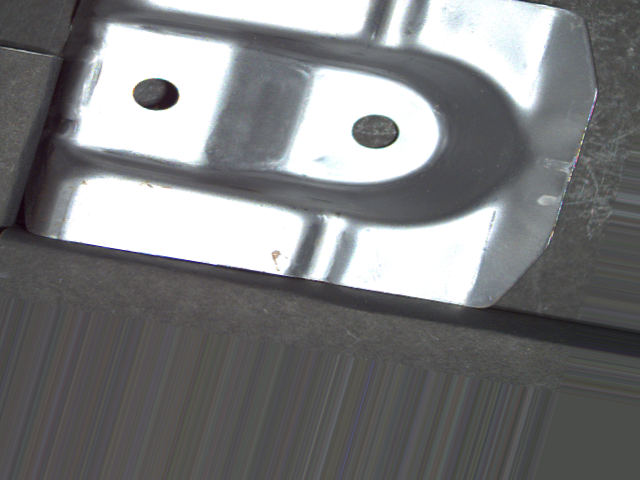defect: (347, 108, 403, 154)
